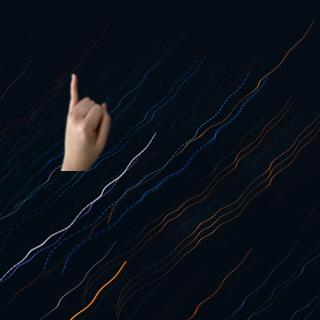Fine: (54, 67, 118, 170)
